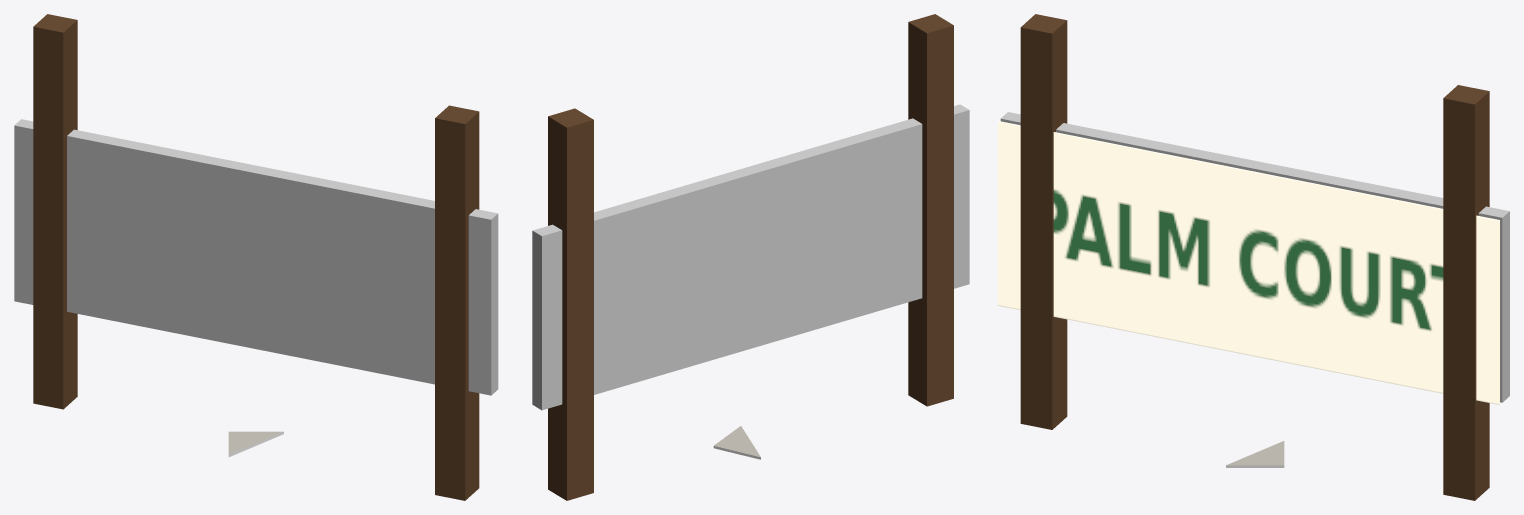
File: noord_palmcourt.glb
3 views of the same model, side by side, from view 1: azimuth 90°, elevation 25°; view 2: azimuth 150°, elevation 25°; view 3: azimuth 270°, elevation 25° (orthographic). The views are drawn at different scales.
Visible parts, largest first — view 1: noord_palmcourt_lod0; view 2: noord_palmcourt_lod0; view 3: noord_palmcourt_lod0.
Part boxes in pixels (x1=…): noord_palmcourt_lod0: x1=14, y1=14, x2=498, y2=500; noord_palmcourt_lod0: x1=532, y1=14, x2=969, y2=500; noord_palmcourt_lod0: x1=998, y1=14, x2=1509, y2=500.
Size of what is drawn, in the model's own units: 0.8777 by 1.55 by 1.75.
5 materials, 1 textured.
